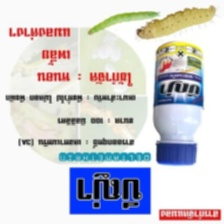insecticide: (151, 36, 206, 168)
